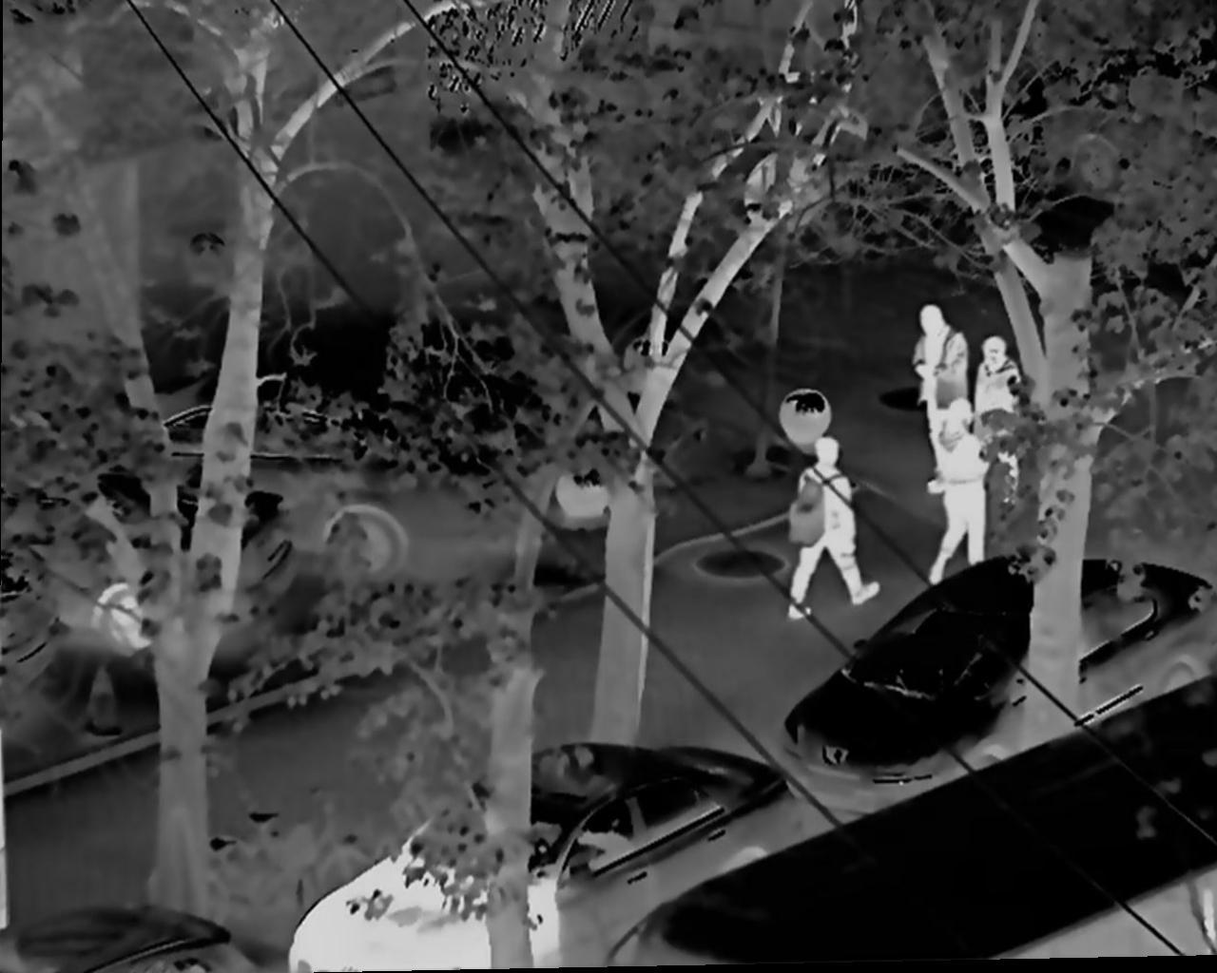person: (785, 436, 883, 626), (927, 398, 988, 589), (976, 337, 1027, 476), (912, 300, 969, 414)
